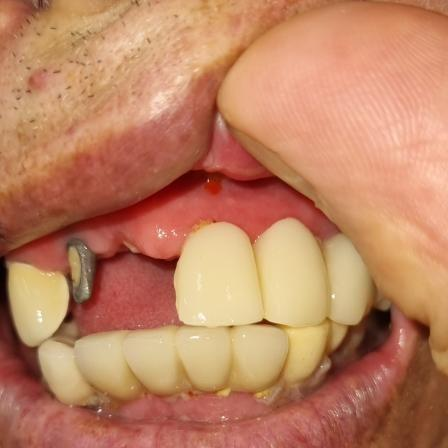Missing: (15, 225, 231, 329)
